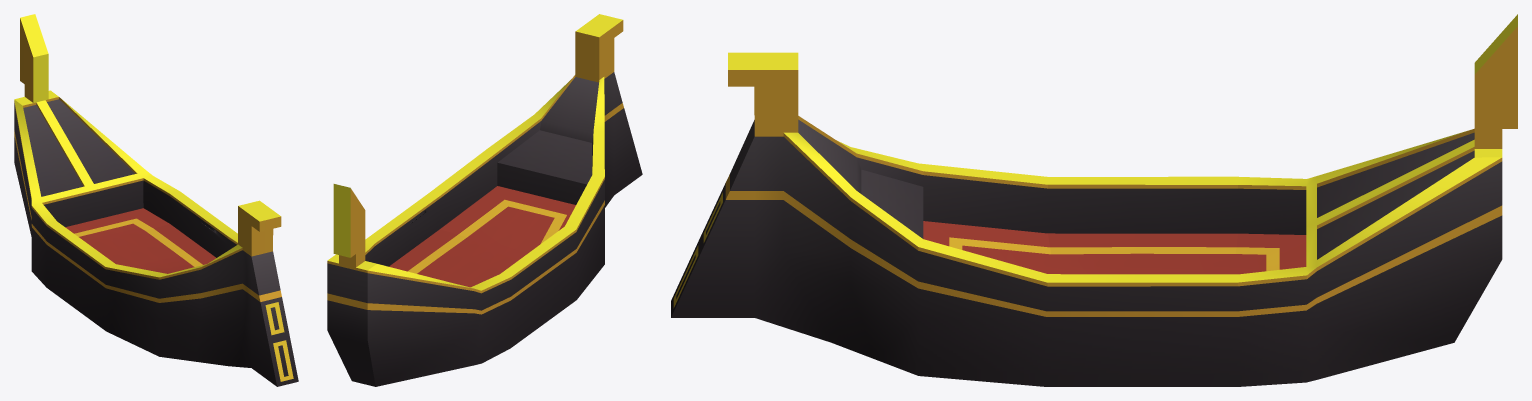
The model's file is Scene_3_Lv5_RiverBoat_2.FBX.
3 views of the same model, side by side, from view 1: azimuth 30°, elevation 25°; view 2: azimuth 150°, elevation 25°; view 3: azimuth 270°, elevation 25° (orthographic). The views are drawn at different scales.
Parts seen in each view (by area): view 1: Scene_3_Lv5_RiverBoat_2; view 2: Scene_3_Lv5_RiverBoat_2; view 3: Scene_3_Lv5_RiverBoat_2.
Part boxes in pixels (x1,y1,x2,y2): Scene_3_Lv5_RiverBoat_2: (14,14,298,386); Scene_3_Lv5_RiverBoat_2: (327,14,642,386); Scene_3_Lv5_RiverBoat_2: (671,14,1517,386).
Bounding box in the file's own units: 188 × 260 × 636.
